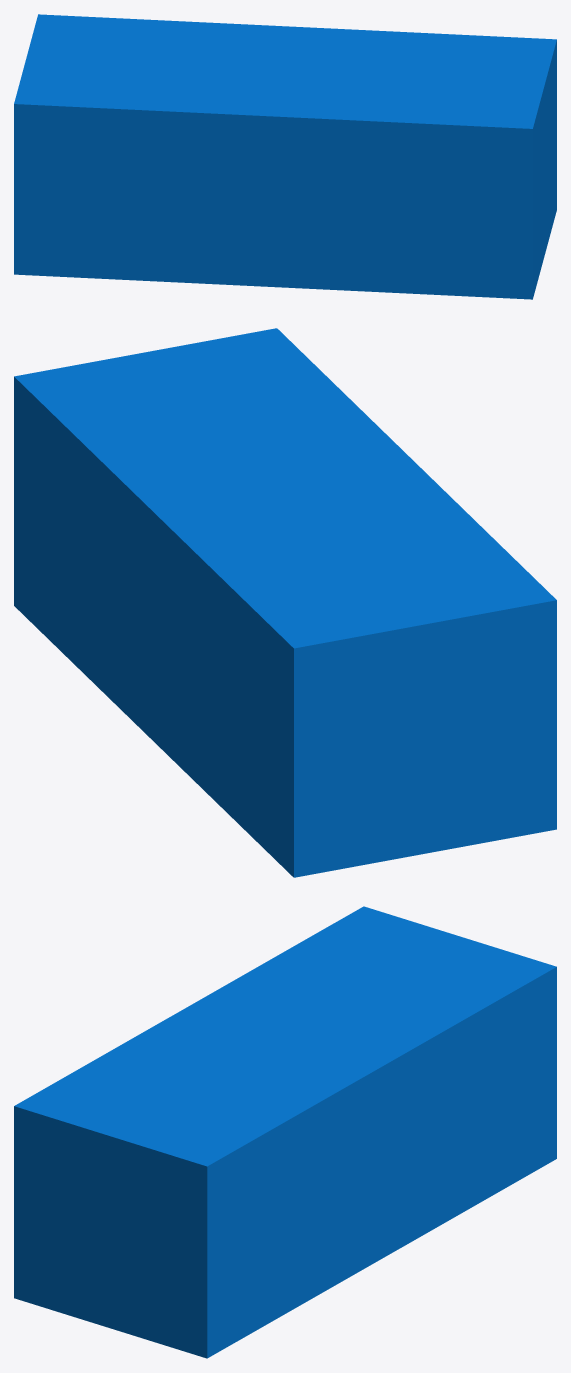
File: Palma_T8_URB.fbx
The picture shows the model from 3 angles, top to bottom: view 1: azimuth 30°, elevation 25°; view 2: azimuth 150°, elevation 25°; view 3: azimuth 270°, elevation 25°; orthographic projection. The views are drawn at different scales.
Visible parts, largest first — view 1: Cube__49_; view 2: Cube__49_; view 3: Cube__49_.
Part boxes in pixels (x1,y1,x2,y2): Cube__49_: (14,14,556,299); Cube__49_: (14,328,556,877); Cube__49_: (14,906,556,1358).
Size of the model in its own units: 4780 by 1646 by 4215.
